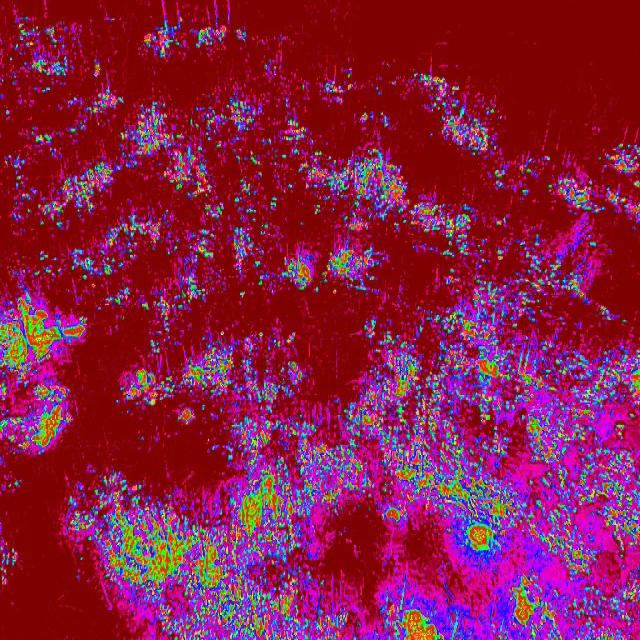fire: (122, 142, 640, 472), (63, 472, 640, 638), (1, 60, 508, 141), (0, 0, 286, 61), (0, 142, 121, 286), (0, 286, 85, 460)
